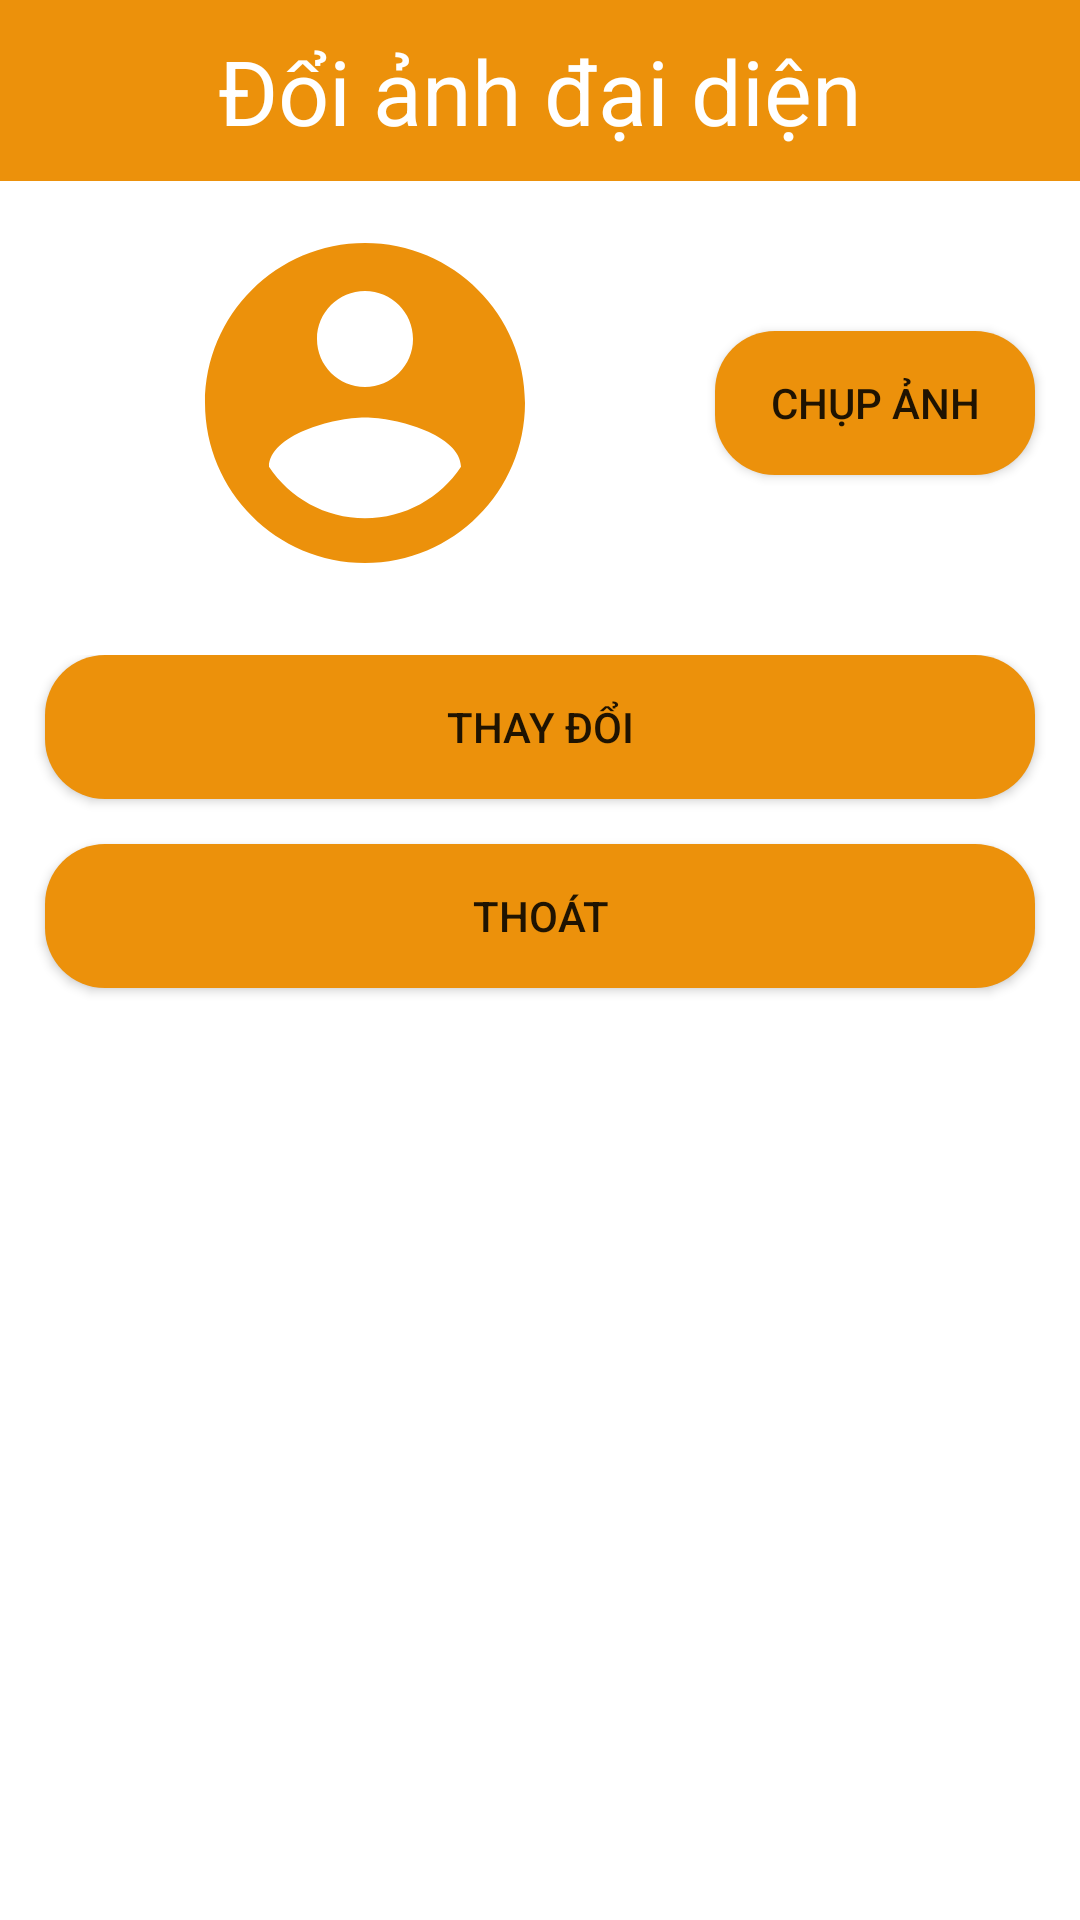

Icons on this 1080 x 1920 Android screen, each with the point to tap as [x,y]:
account avt: [365,403]
